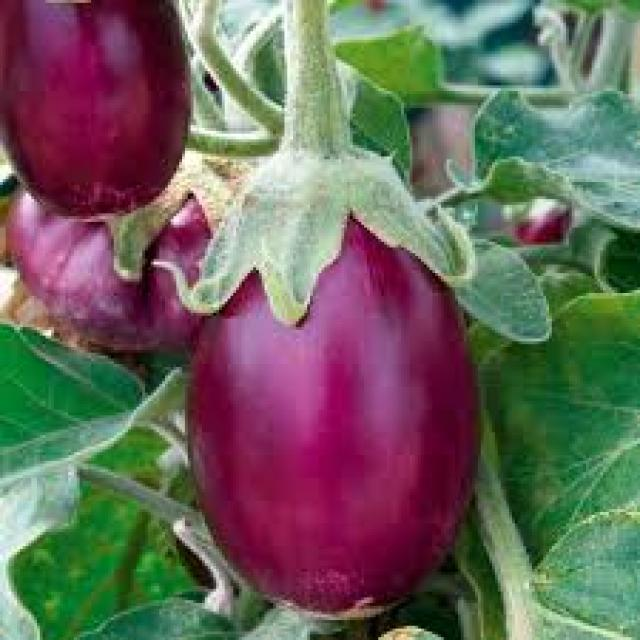organic waste: (182, 0, 478, 620), (484, 287, 637, 637), (0, 0, 191, 216), (0, 321, 182, 515), (6, 182, 213, 350), (526, 501, 637, 637), (74, 595, 307, 637), (512, 199, 569, 239)
